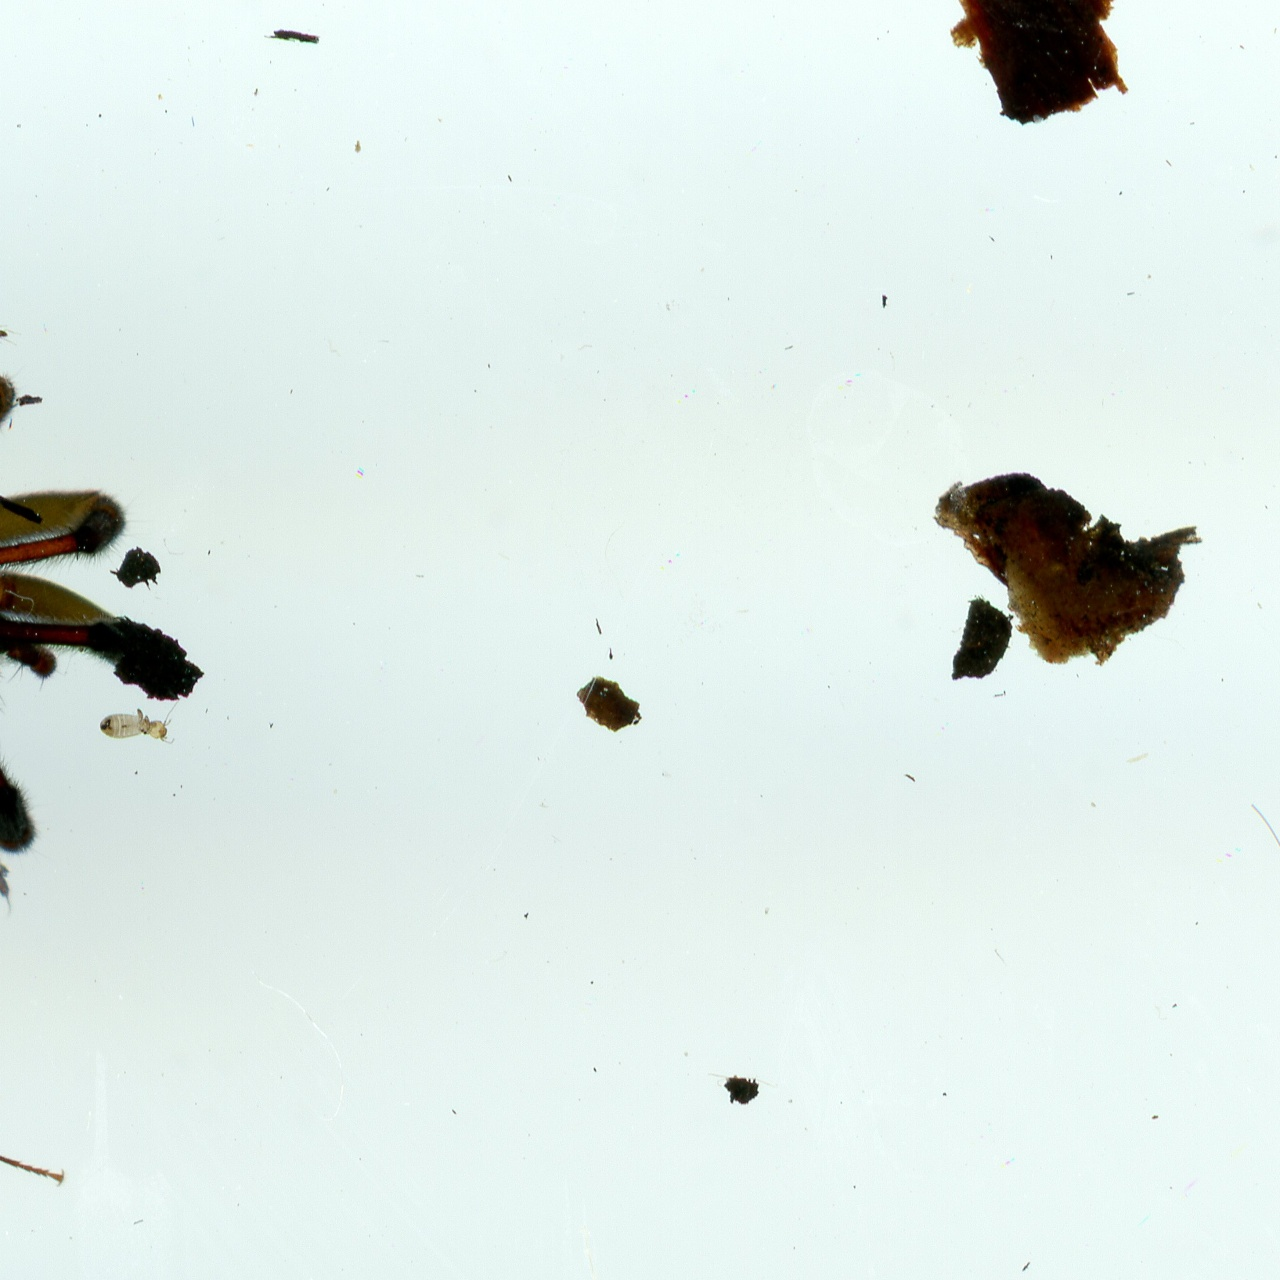arthropod: (0, 244, 135, 898), (0, 803, 73, 1280), (98, 695, 185, 748), (0, 840, 19, 917), (0, 306, 26, 350)
